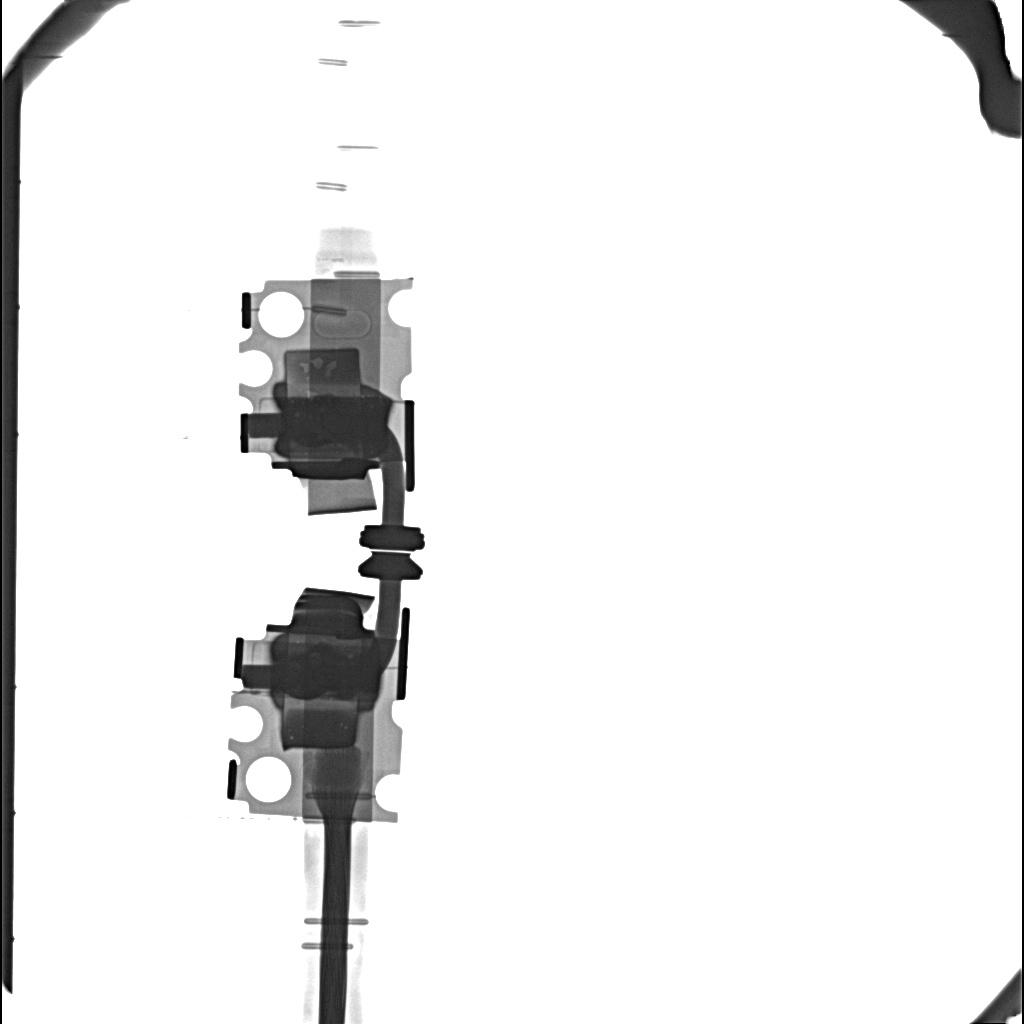PX: (280, 697, 359, 750), (284, 347, 362, 395)
SX: (274, 648, 379, 697), (276, 398, 392, 441)
